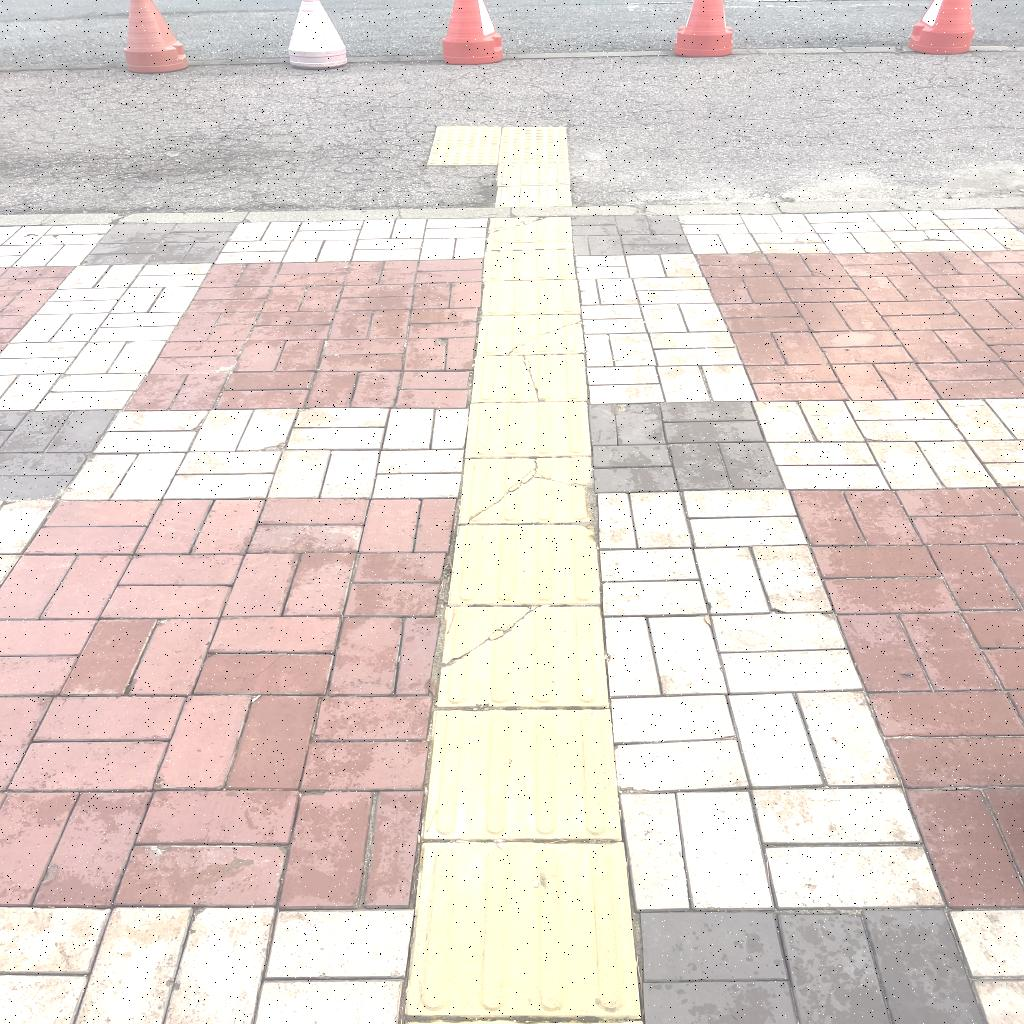Straight block broken: (439, 607, 607, 706), (458, 457, 596, 524), (472, 353, 587, 403), (476, 313, 584, 356), (488, 218, 571, 242)
Straight block normal: (407, 845, 639, 1016), (435, 712, 610, 838), (449, 524, 600, 603), (471, 404, 587, 456), (484, 282, 578, 314)
